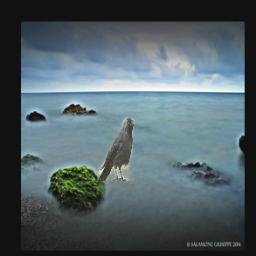Crow: (98, 118, 135, 182)
